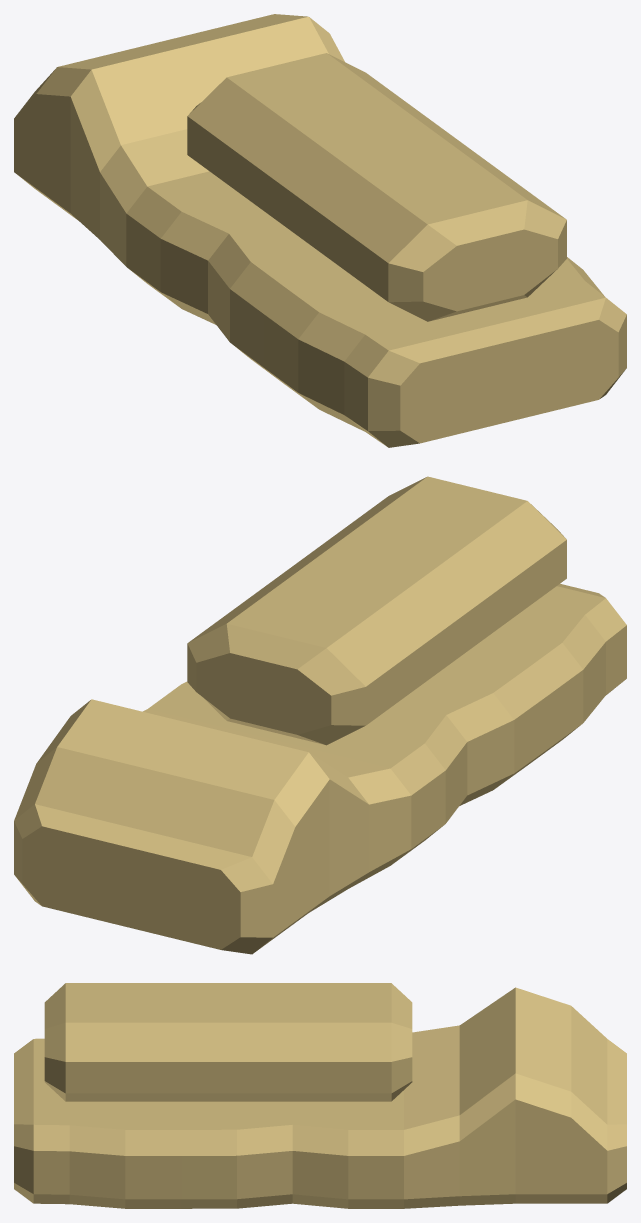
File: tallow_transport_b.glb
The picture shows the model from 3 angles, top to bottom: view 1: azimuth 30°, elevation 25°; view 2: azimuth 150°, elevation 25°; view 3: azimuth 270°, elevation 25°; orthographic projection. The views are drawn at different scales.
Visible parts, largest first — view 1: tallow_transport_b; view 2: tallow_transport_b; view 3: tallow_transport_b.
Boxes of the visible parts, left/top/right/bottom form: tallow_transport_b: left=14, top=14, right=626, bottom=447; tallow_transport_b: left=14, top=476, right=626, bottom=954; tallow_transport_b: left=14, top=983, right=626, bottom=1208.
Bounding box in the file's own units: 3.7 × 2.41 × 8.5.
